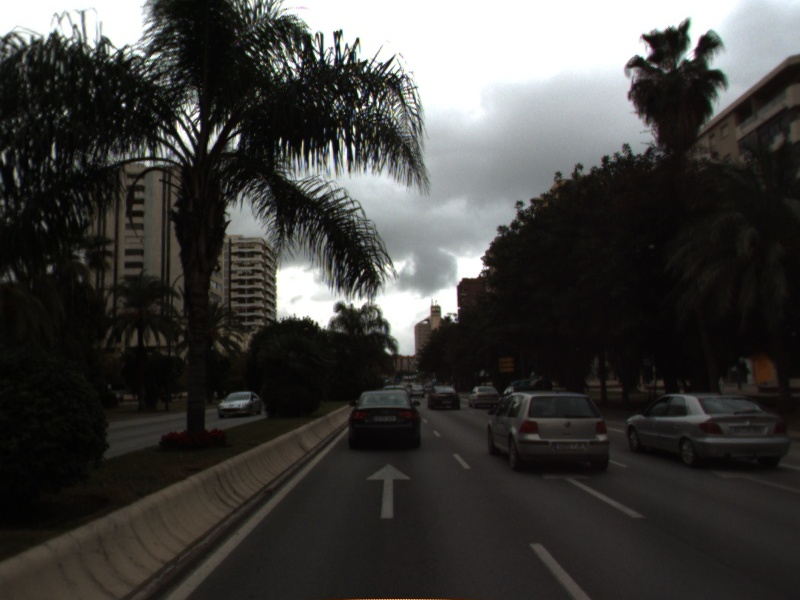STRAIGHT: (540, 469, 651, 521), (363, 461, 414, 520), (710, 466, 800, 494)
